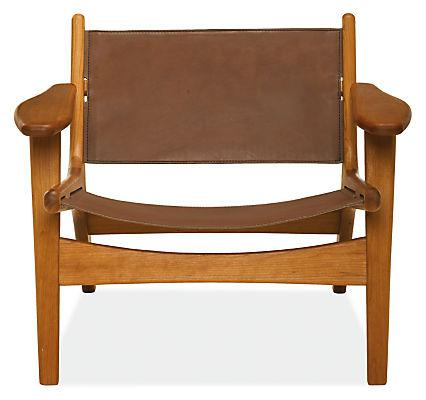chair: (14, 4, 424, 399)
